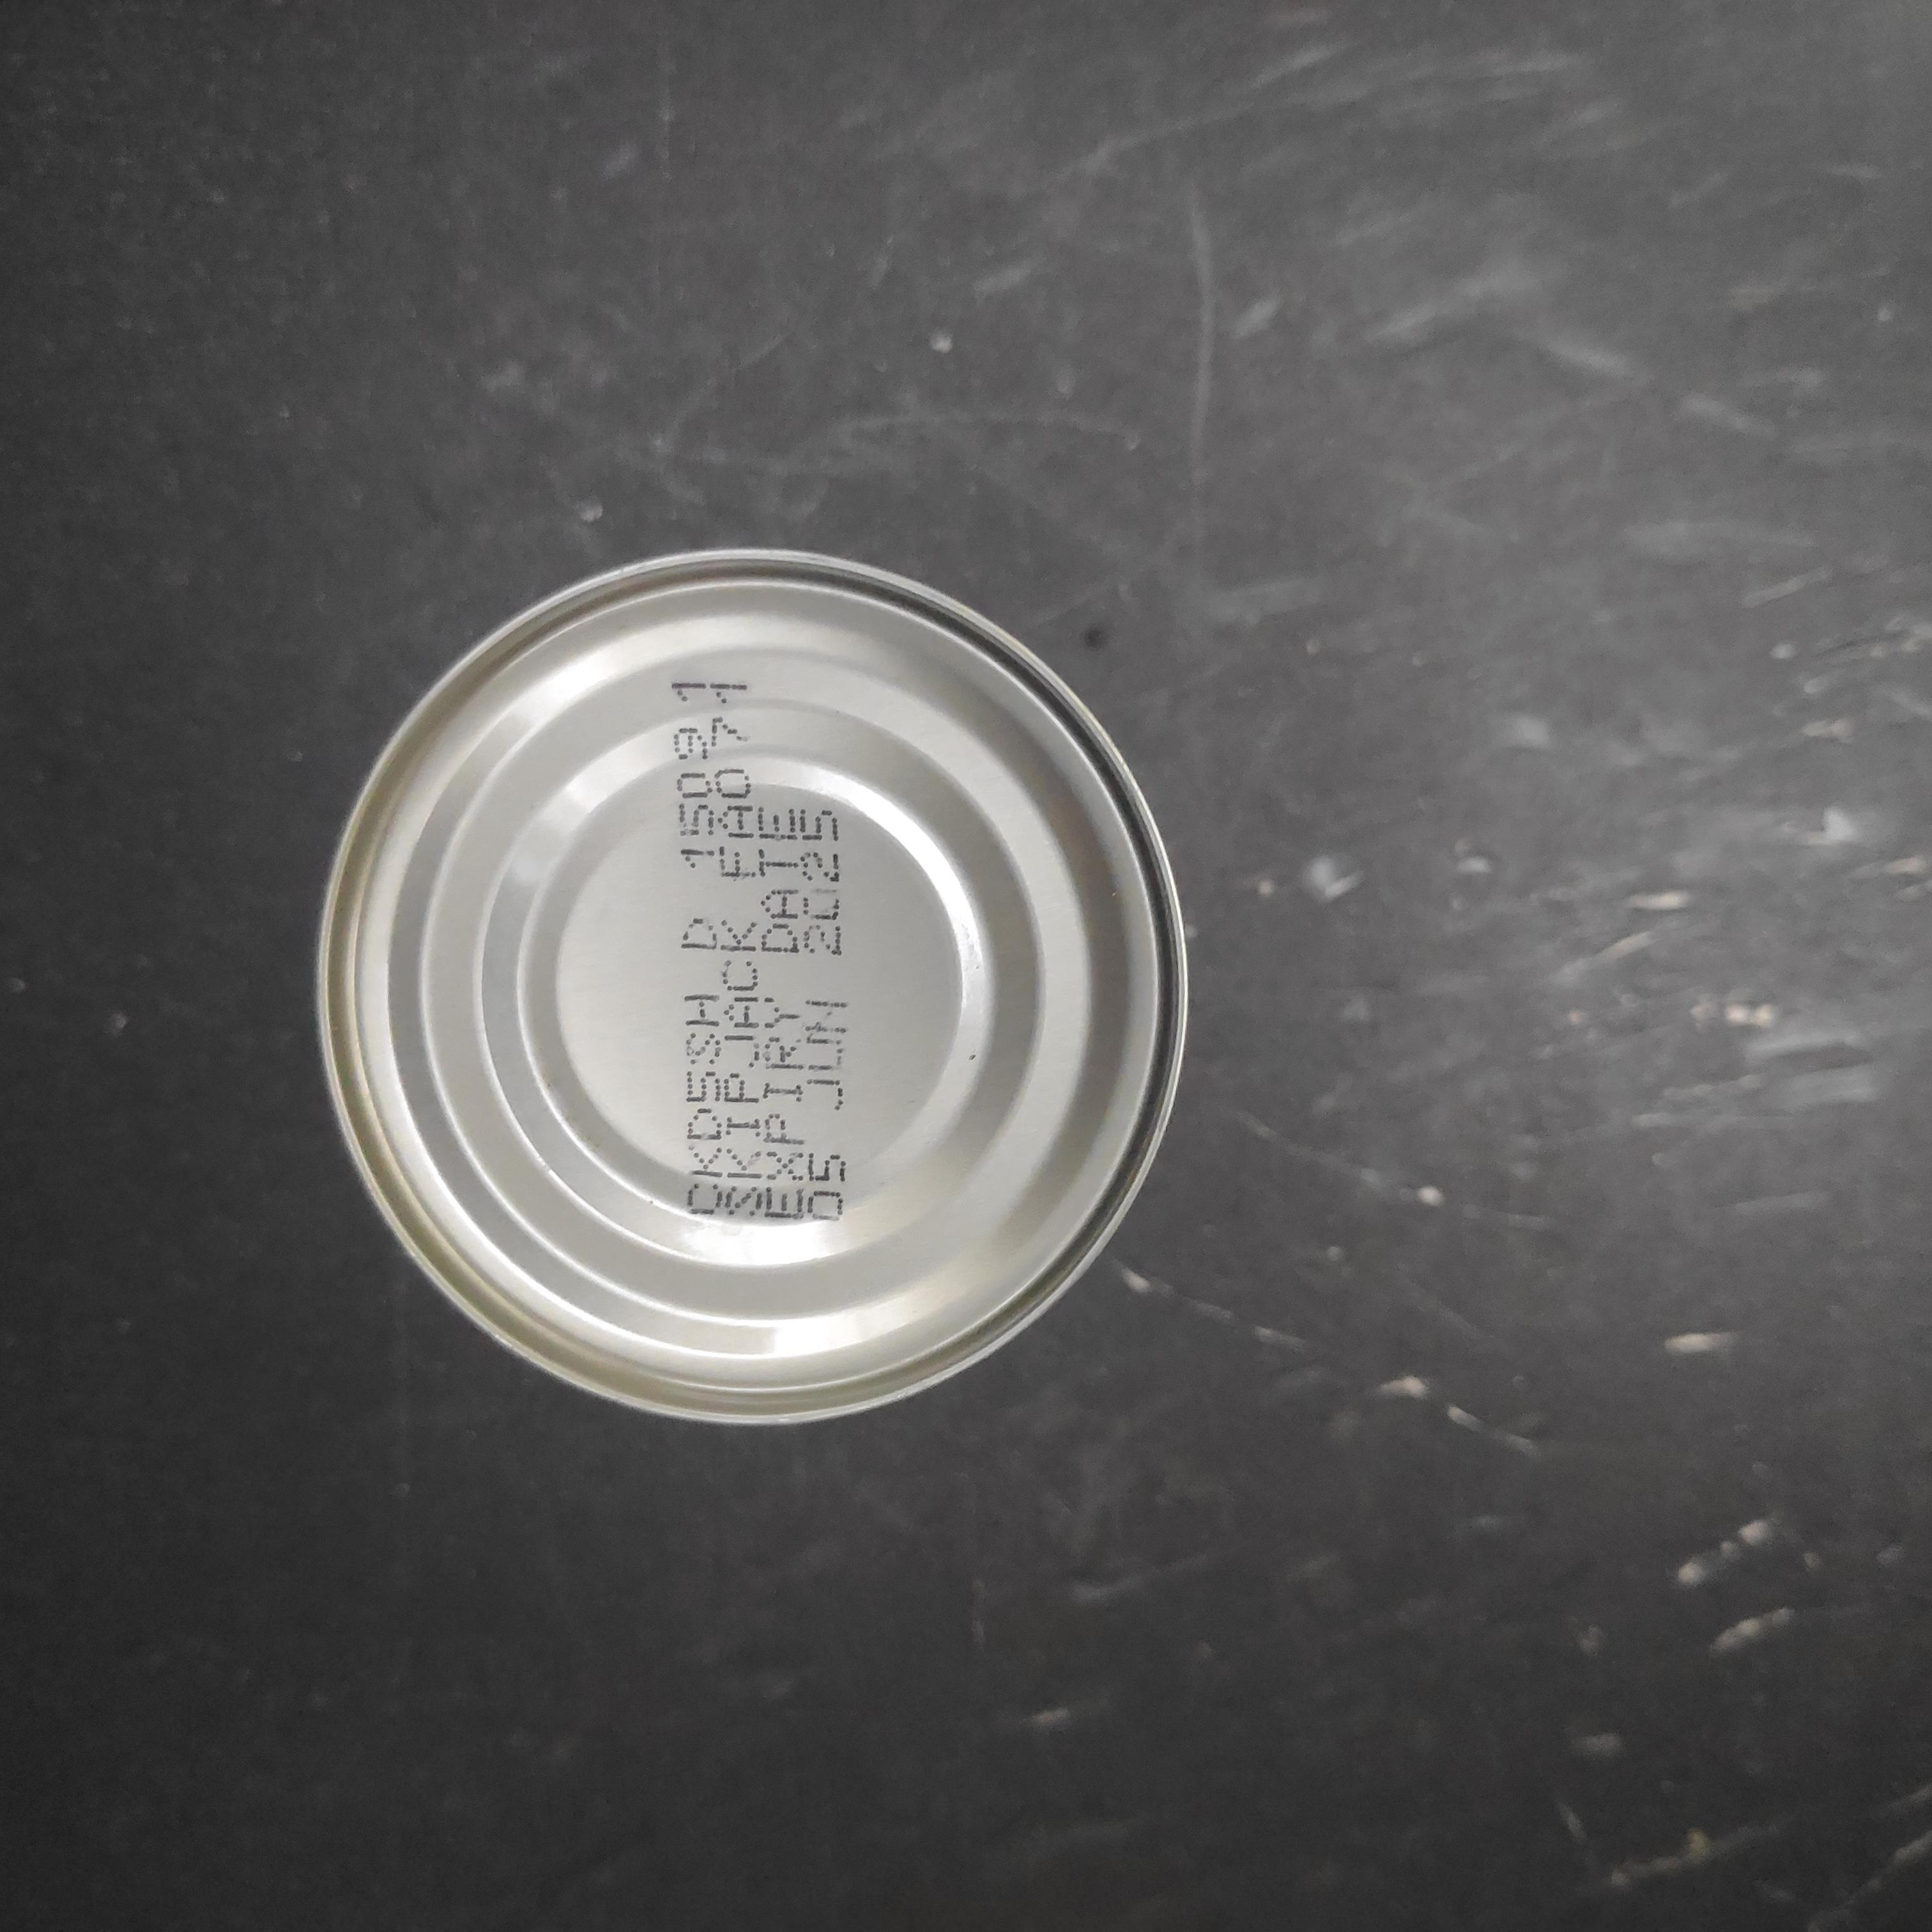No defect: (742, 503, 1620, 1386)
